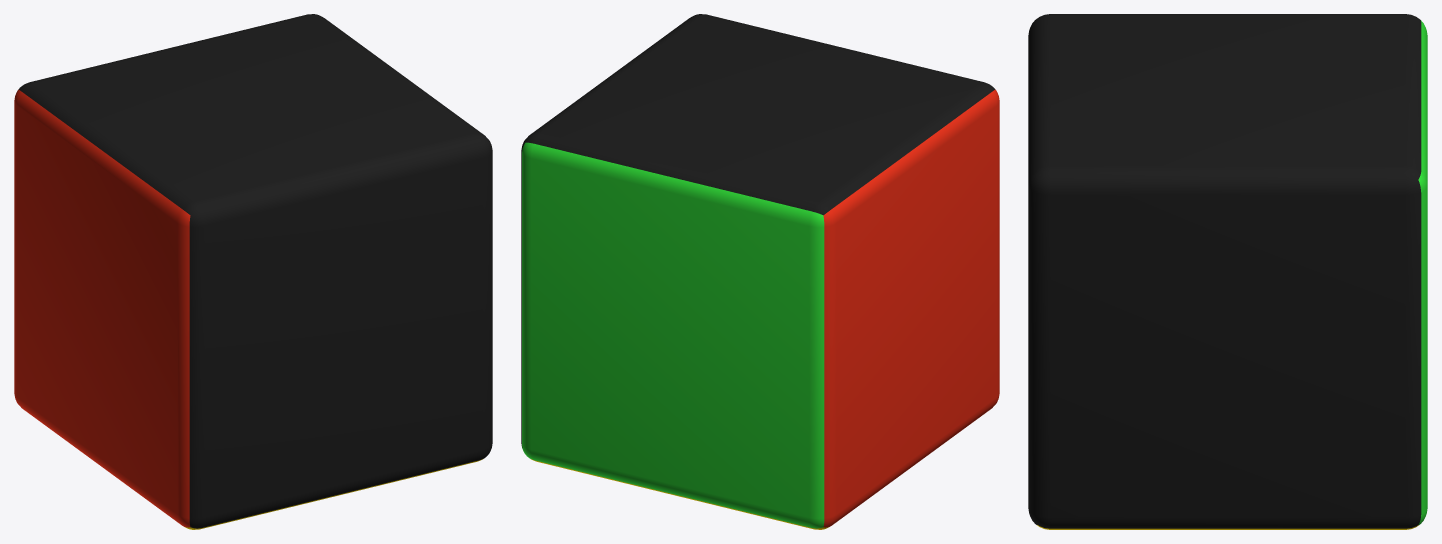
The model's file is yrg_corner.glb.
3 views of the same model, side by side, from view 1: azimuth 30°, elevation 25°; view 2: azimuth 150°, elevation 25°; view 3: azimuth 270°, elevation 25° (orthographic). The views are drawn at different scales.
Visible parts, largest first — view 1: Cube.018; view 2: Cube.018; view 3: Cube.018.
Boxes of the visible parts, box(x1,y1,x2,y2) form: Cube.018: box(14, 14, 492, 529); Cube.018: box(521, 14, 999, 529); Cube.018: box(1028, 14, 1427, 529).
Bounding box in the file's own units: 2 × 2 × 2.
